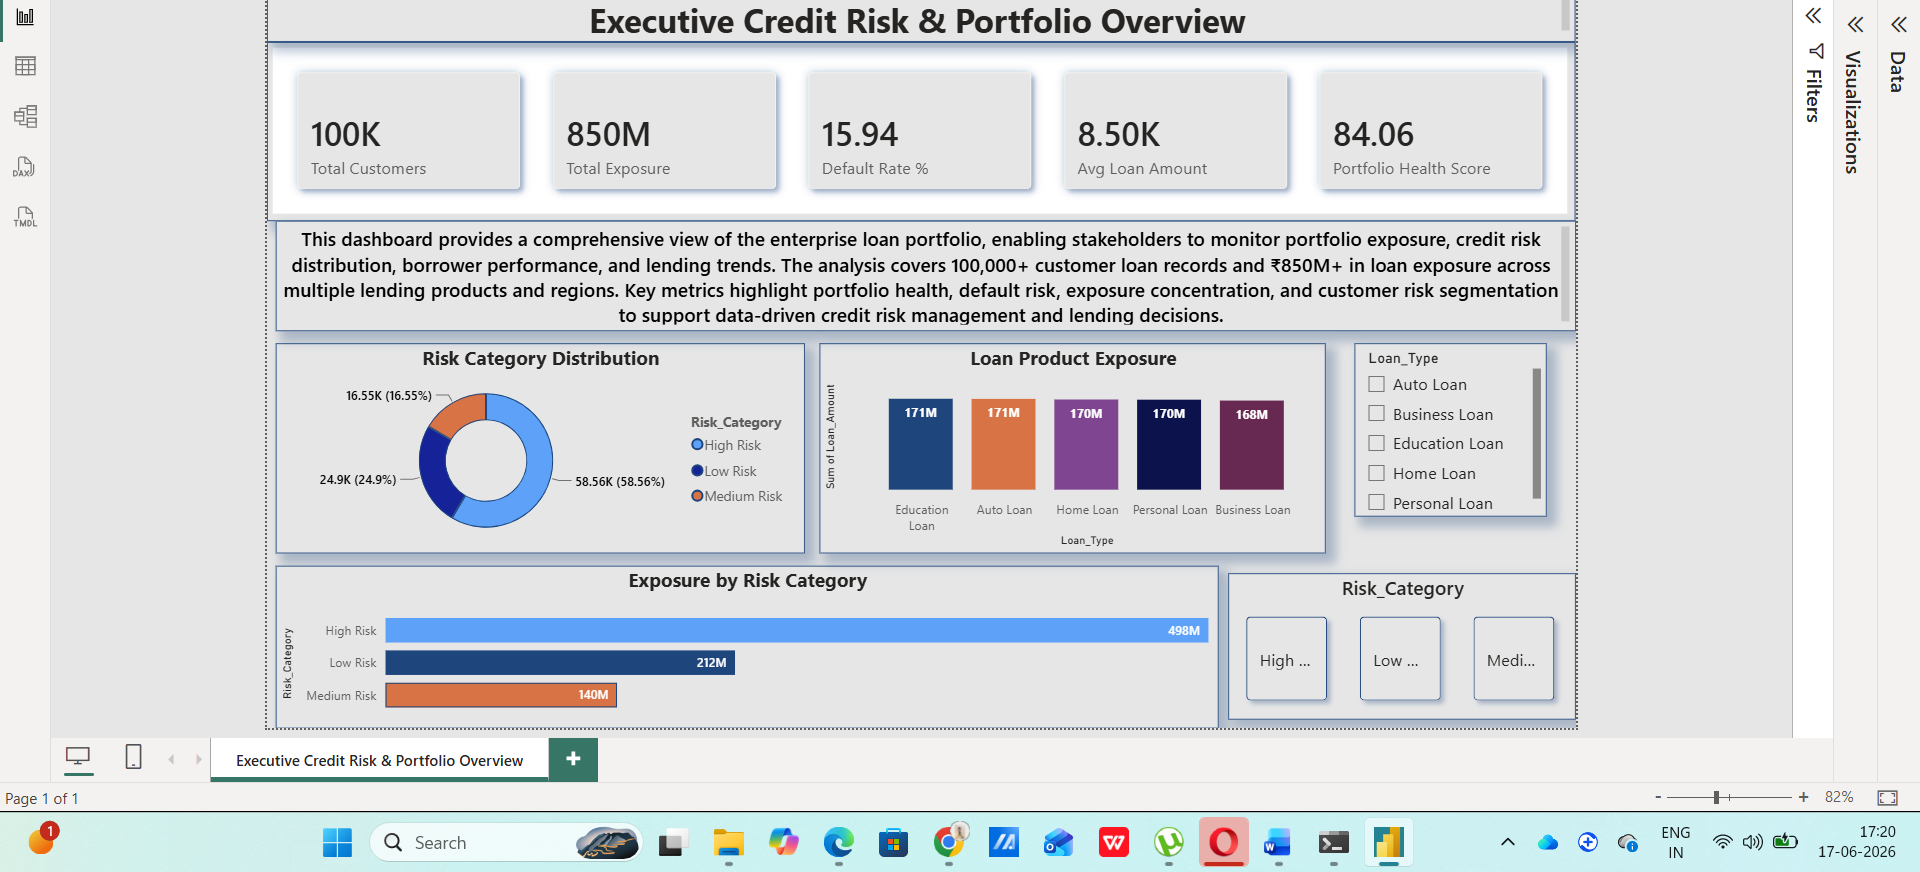

The dashboard page shown, as its layout file describes it:
{"tool":"powerbi","page":{"name":"Executive Credit Risk & Portfolio Overview","canvas":[1280,720],"ordinal":0},"visuals":[{"type":"cardVisual","fields":{"Data":["enterprise_credit_risk_dataset.Total Customers","enterprise_credit_risk_dataset.Total Exposure","enterprise_credit_risk_dataset.Default Rate %","enterprise_credit_risk_dataset.Avg Loan Amount","enterprise_credit_risk_dataset.Portfolio Health Score"]},"box":[0,48.9,1280.3,174.9],"z":0},{"type":"textbox","box":[0,0,1280.3,48.9],"z":1000},{"type":"donutChart","title":"Risk Category Distribution","fields":{"Category":["enterprise_credit_risk_dataset.Risk_Category"],"Y":["CountNonNull(enterprise_credit_risk_dataset.Customer_ID)"]},"box":[8.6,343.6,517.3,205.4],"z":2000},{"type":"clusteredBarChart","title":"Exposure by Risk Category","fields":{"Category":["enterprise_credit_risk_dataset.Risk_Category"],"Y":["Sum(enterprise_credit_risk_dataset.Loan_Amount)"]},"box":[8.6,561.3,922,159],"z":3000},{"type":"clusteredColumnChart","title":"Loan Product Exposure","fields":{"Category":["enterprise_credit_risk_dataset.Loan_Type"],"Y":["Sum(enterprise_credit_risk_dataset.Loan_Amount)"]},"box":[540.5,343.6,495.2,205.4],"z":4000},{"type":"textbox","box":[8.6,223.8,1271.7,107.6],"z":5000},{"type":"slicer","fields":{"Values":["enterprise_credit_risk_dataset.Loan_Type"]},"box":[1063.9,343.6,188.3,170],"z":6000},{"type":"advancedSlicerVisual","fields":{"Values":["enterprise_credit_risk_dataset.Risk_Category"]},"box":[940.4,568.6,339.9,143.1],"z":7000}]}

Visuals, with their boxes on the page's 1280x720 design canvas (x1, y1, x2, y2). These are canvas units, not pixel positions in the 1920x872 screenshot, which may show the page scaled, cropped or inside an application window:
cardVisual - enterprise_credit_risk_dataset.Total Customers x enterprise_credit_risk_dataset.Total Exposure: left=0, top=49, right=1280, bottom=224
textbox: left=0, top=0, right=1280, bottom=49
"Risk Category Distribution" donutChart: left=9, top=344, right=526, bottom=549
"Exposure by Risk Category" clusteredBarChart: left=9, top=561, right=931, bottom=720
"Loan Product Exposure" clusteredColumnChart: left=540, top=344, right=1036, bottom=549
textbox: left=9, top=224, right=1280, bottom=331
slicer - enterprise_credit_risk_dataset.Loan_Type: left=1064, top=344, right=1252, bottom=514
advancedSlicerVisual - enterprise_credit_risk_dataset.Risk_Category: left=940, top=569, right=1280, bottom=712
